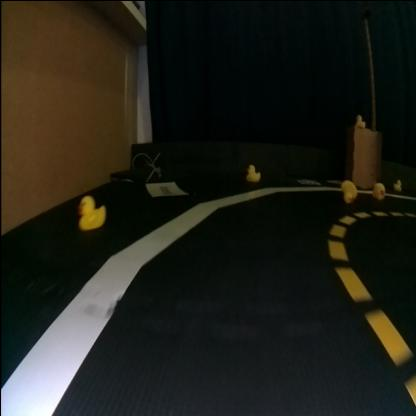Duckie: (78, 194, 106, 227), (341, 180, 357, 200), (246, 162, 260, 180), (372, 182, 385, 198), (394, 178, 402, 188), (357, 113, 363, 124)
QR code: (301, 177, 320, 184)
